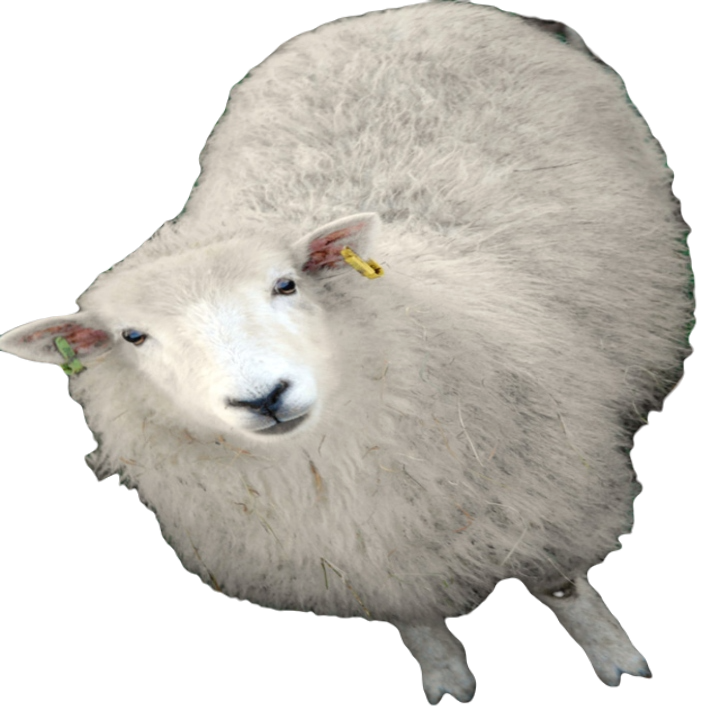Sheep: (0, 0, 705, 711)
